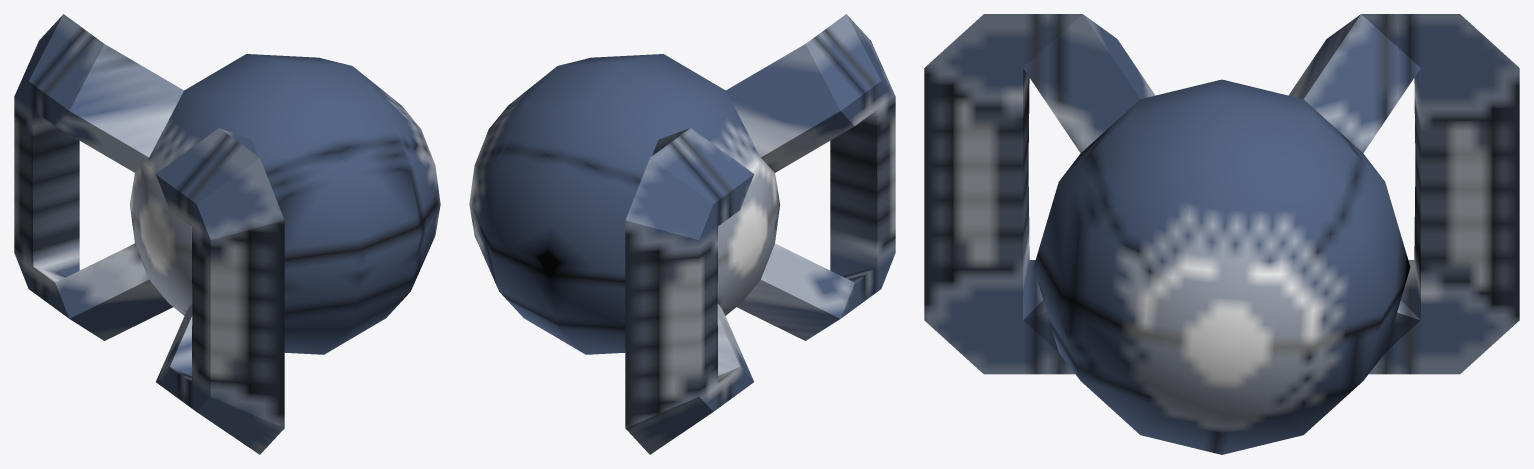
File: Pulsar.FBX
3 views of the same model, side by side, from view 1: azimuth 30°, elevation 25°; view 2: azimuth 150°, elevation 25°; view 3: azimuth 270°, elevation 25° (orthographic). The views are drawn at different scales.
Parts seen in each view (by area): view 1: Pulsar; view 2: Pulsar; view 3: Pulsar.
Part boxes in pixels (<box>): Pulsar: <box>14,14,440,454</box>; Pulsar: <box>469,14,895,454</box>; Pulsar: <box>924,14,1519,454</box>.
Size of the model in its own units: 28.23 by 26.1 by 39.09.
1 material, 1 textured.
